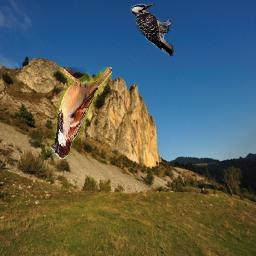Sparrow: (50, 67, 113, 159)
Woodpecker: (126, 3, 177, 58)
